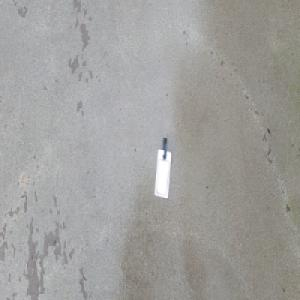LuggageTag: (153, 136, 172, 200)
